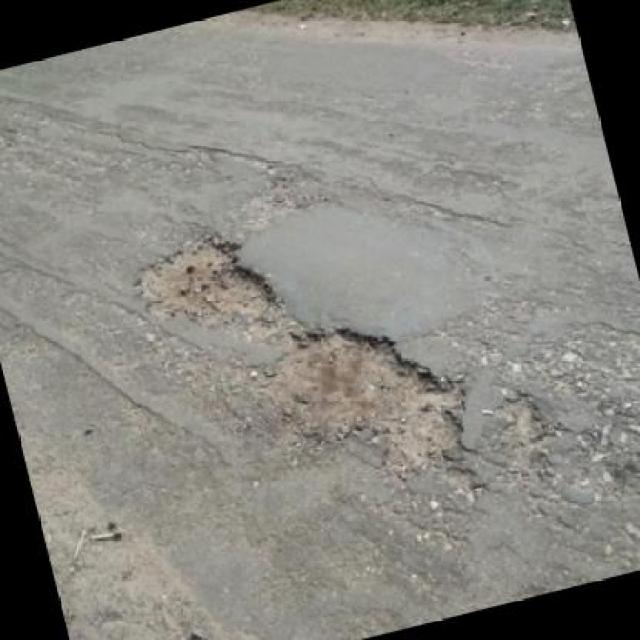pothole1: (242, 296, 478, 499), (118, 214, 292, 355), (488, 390, 552, 455)
